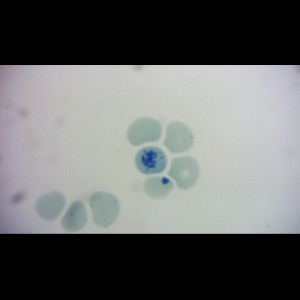aggregate reticulocyte: (134, 145, 169, 176)
erythrocyte: (168, 153, 202, 191), (126, 115, 165, 148), (33, 190, 66, 222), (142, 176, 177, 199)
punctate reticulocyte: (88, 192, 123, 230), (164, 118, 195, 155), (59, 198, 88, 233)
